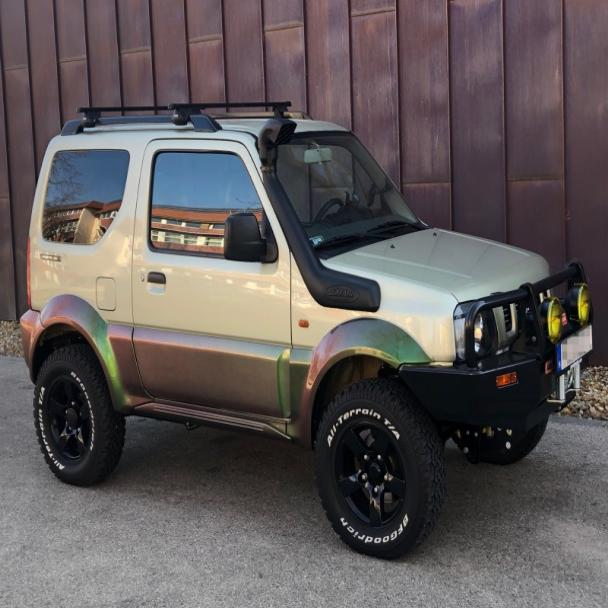Mobil: (11, 99, 597, 564)
